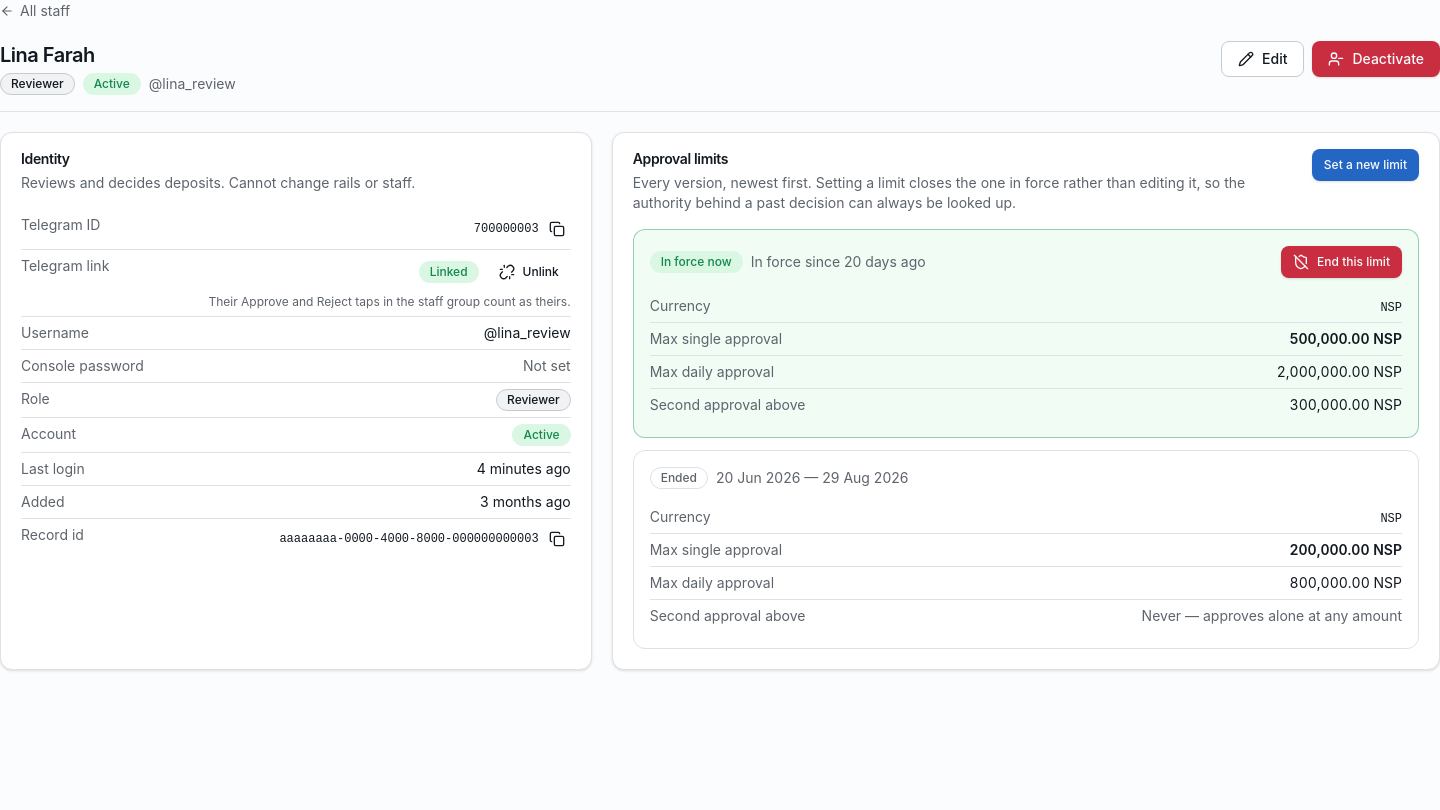
Test: StaffDetailPage › opens the edit form on the record it is showing
Click the button "Edit": click(1263, 59) [1221,41,1304,77]
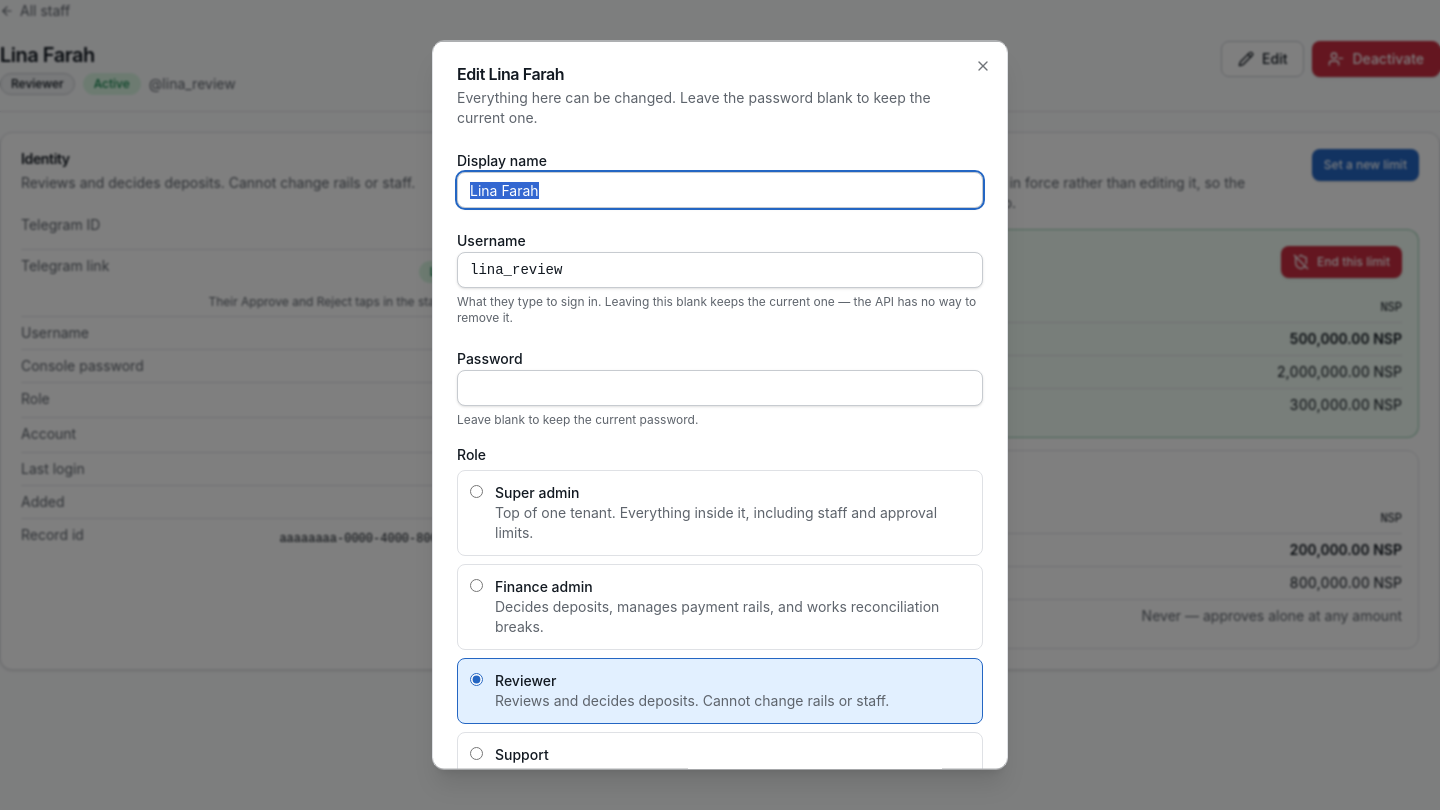
Check: the field labelled "Display name" holds "Lina Farah", box [457,172,983,208]
